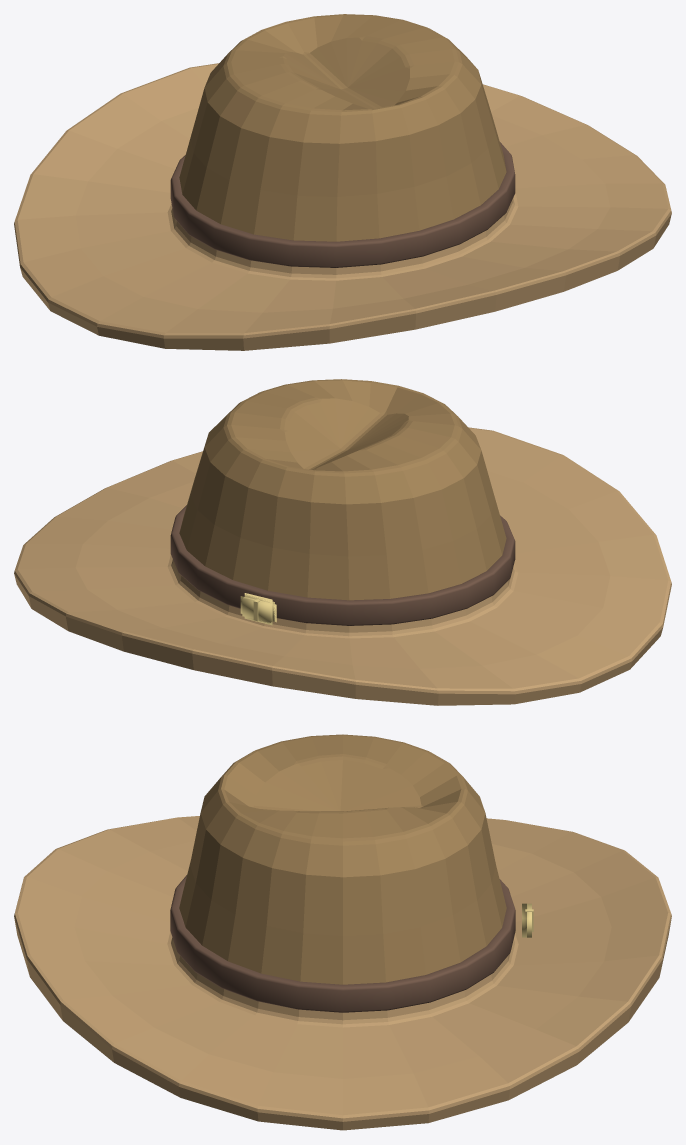
File: cowboy.glb
3 renders of one model, top to bottom at view 1: azimuth 30°, elevation 25°; view 2: azimuth 150°, elevation 25°; view 3: azimuth 270°, elevation 25°, orthographic. The views are drawn at different scales.
Visible parts, largest first — view 1: HAT_Cowboy, HAT_Cowboy_Band; view 2: HAT_Cowboy, HAT_Cowboy_Band, HAT_Cowboy_Buckle; view 3: HAT_Cowboy, HAT_Cowboy_Band.
Boxes of the visible parts, box(x1,y1,x2,y2) form: HAT_Cowboy: box(14, 14, 671, 350); HAT_Cowboy_Band: box(170, 142, 515, 267); HAT_Cowboy: box(14, 379, 671, 705); HAT_Cowboy_Band: box(170, 505, 515, 625); HAT_Cowboy_Buckle: box(240, 593, 276, 625); HAT_Cowboy: box(14, 734, 671, 1130); HAT_Cowboy_Band: box(170, 875, 515, 1012).
Size of the model in its own units: 0.8911 by 0.2616 by 0.8043.
